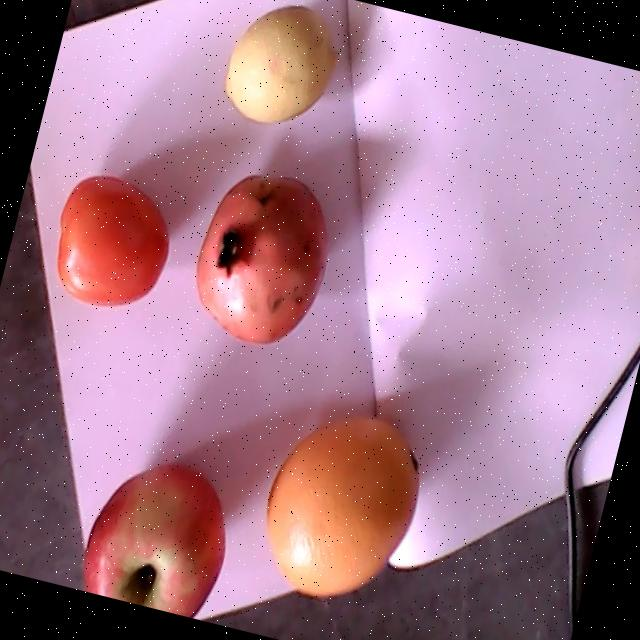apple: (82, 460, 224, 617)
lemon: (223, 5, 339, 121)
orange: (265, 416, 418, 595)
pomegranate: (194, 173, 327, 343)
tomato: (56, 177, 167, 305)
